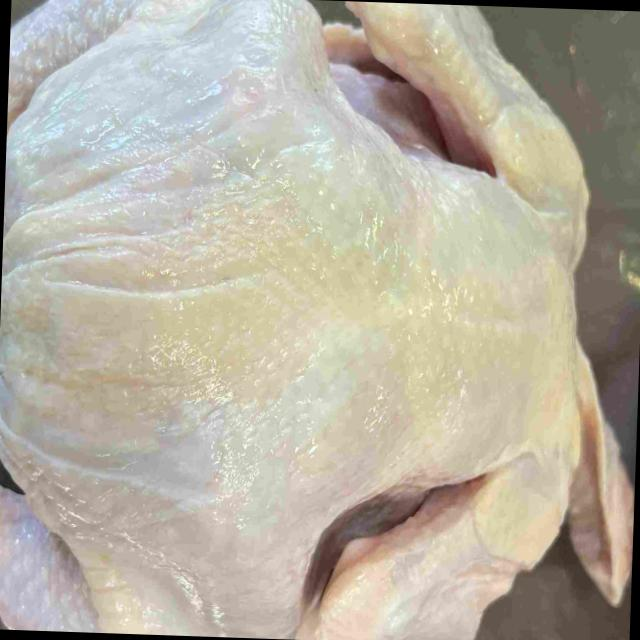back: (0, 102, 547, 497)
leg: (0, 475, 324, 640), (7, 0, 325, 118)
wing: (343, 1, 592, 227), (312, 445, 575, 640)
